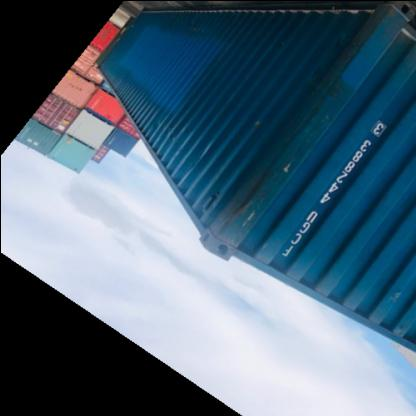Damage: (152, 113, 212, 166), (224, 158, 266, 228), (281, 156, 298, 176), (250, 117, 271, 131)
